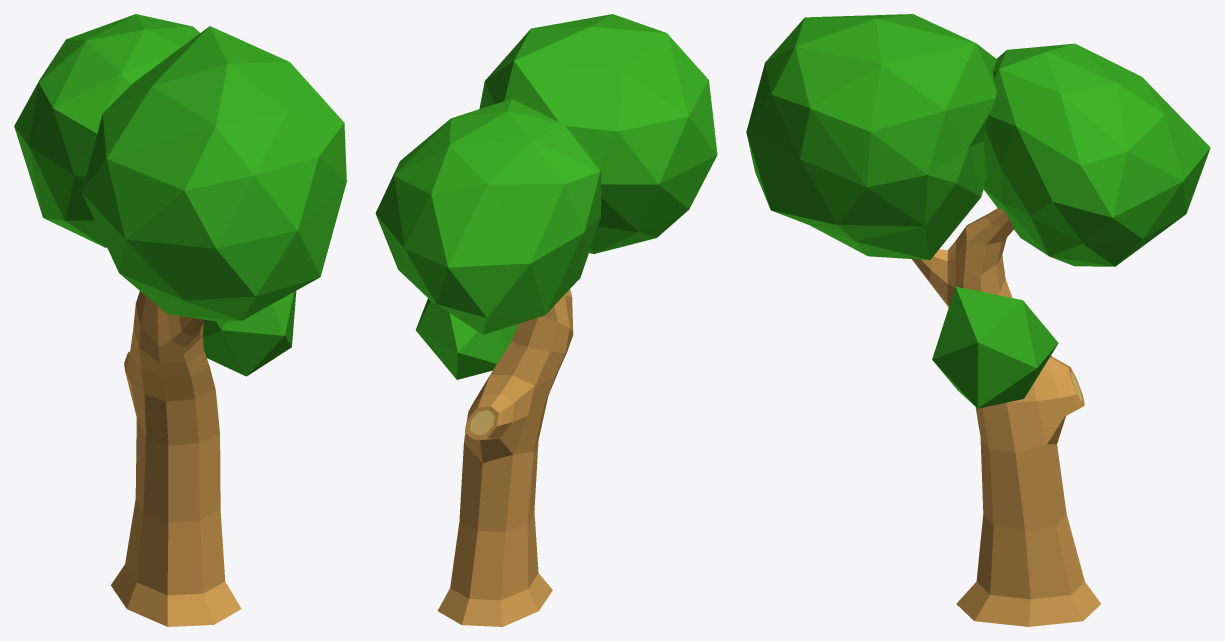
The model's file is Tree_1.glb.
The picture shows the model from 3 angles, left to right: view 1: azimuth 30°, elevation 25°; view 2: azimuth 150°, elevation 25°; view 3: azimuth 270°, elevation 25°; orthographic projection. The views are drawn at different scales.
Visible parts, largest first — view 1: Tree_LOD0; view 2: Tree_LOD0; view 3: Tree_LOD0.
Boxes of the visible parts, left/top/right/bottom form: Tree_LOD0: left=14, top=14, right=346, bottom=626; Tree_LOD0: left=375, top=14, right=717, bottom=626; Tree_LOD0: left=746, top=14, right=1210, bottom=626.
Size of what is drawn, in the model's own units: 5.3 by 12.32 by 9.06.
